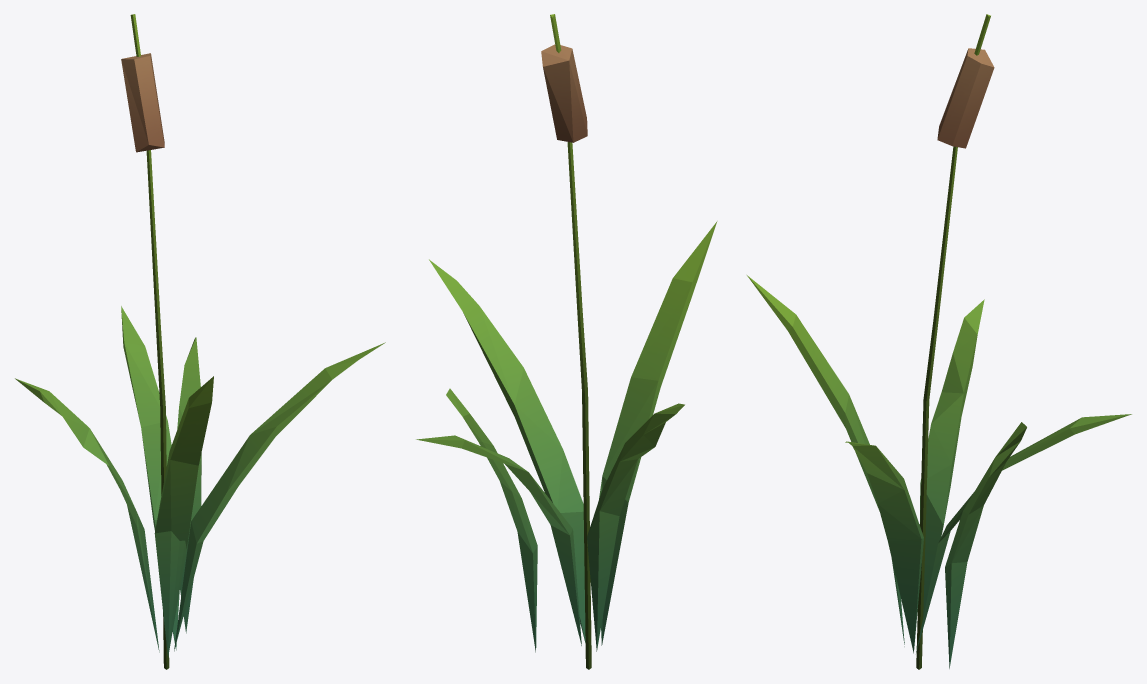
Rendered from ZLP_Grass_B_3.FBX.
3 renders of one model, left to right at view 1: azimuth 30°, elevation 25°; view 2: azimuth 150°, elevation 25°; view 3: azimuth 270°, elevation 25°, orthographic. The views are drawn at different scales.
Visible parts, largest first — view 1: ZLP_Grass_B_3; view 2: ZLP_Grass_B_3; view 3: ZLP_Grass_B_3.
Boxes of the visible parts, x1=… form: ZLP_Grass_B_3: x1=15, y1=14, x2=385, y2=669; ZLP_Grass_B_3: x1=416, y1=14, x2=717, y2=669; ZLP_Grass_B_3: x1=747, y1=14, x2=1131, y2=669.
Size of the model in its own units: 99.22 by 196 by 105.
